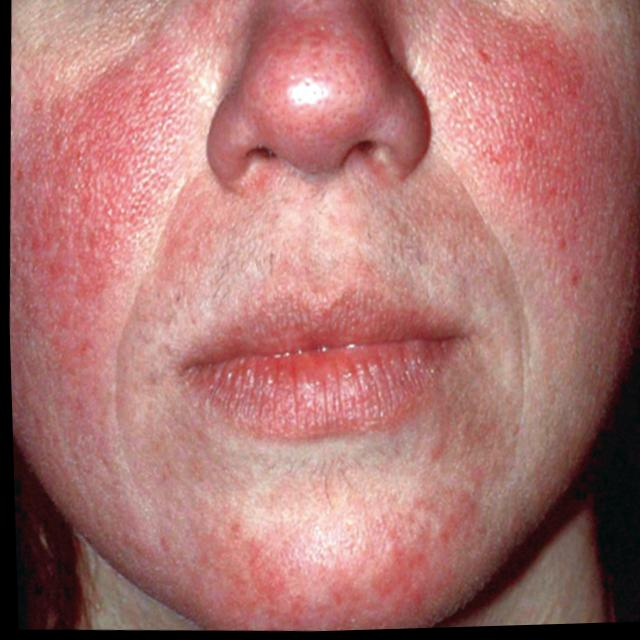skinredness: (20, 41, 193, 326), (454, 7, 608, 227), (186, 519, 457, 636), (230, 1, 383, 129)
